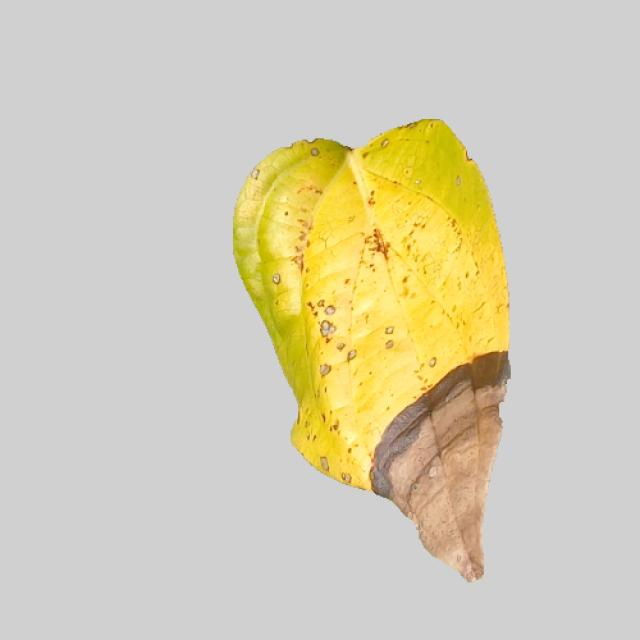leaf-blight: (215, 125, 513, 582)
